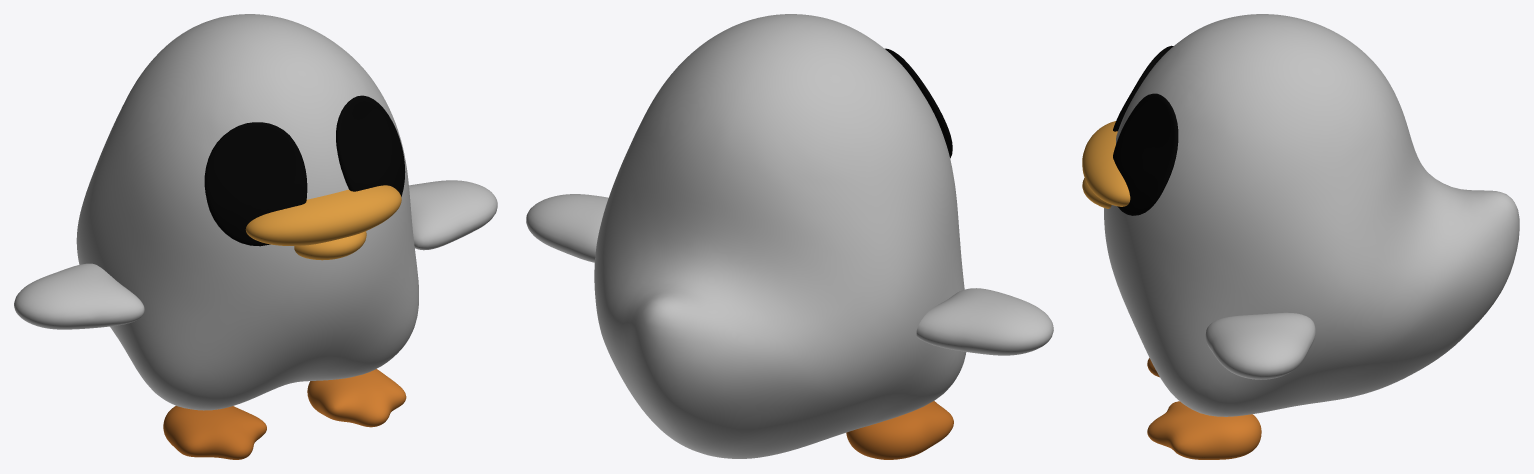
The model's file is CanardSepare.fbx.
3 views of the same model, side by side, from view 1: azimuth 30°, elevation 25°; view 2: azimuth 150°, elevation 25°; view 3: azimuth 270°, elevation 25° (orthographic). The views are drawn at different scales.
Parts seen in each view (by area): view 1: Body, Eyes, Lips, Arms1, Arms2, Legs1, Legs2; view 2: Body, Arms1, Arms2, Legs1, Eyes; view 3: Body, Eyes, Arms2, Legs2, Lips.
Boxes of the visible parts, bbox=[...] form: Body: bbox=[76, 14, 418, 410]; Eyes: bbox=[204, 95, 405, 246]; Lips: bbox=[245, 185, 401, 260]; Arms1: bbox=[14, 263, 144, 329]; Arms2: bbox=[409, 180, 497, 250]; Legs1: bbox=[163, 406, 266, 459]; Legs2: bbox=[307, 369, 406, 427]; Body: bbox=[594, 14, 966, 458]; Arms1: bbox=[916, 288, 1053, 355]; Arms2: bbox=[526, 194, 608, 262]; Legs1: bbox=[846, 401, 953, 459]; Eyes: bbox=[885, 48, 952, 158]; Body: bbox=[1104, 14, 1519, 416]; Eyes: bbox=[1113, 45, 1178, 215]; Arms2: bbox=[1205, 312, 1315, 379]; Legs2: bbox=[1147, 401, 1261, 459]; Lips: bbox=[1082, 121, 1130, 208].
Bounding box in the file's own units: 196 × 152 × 155.
